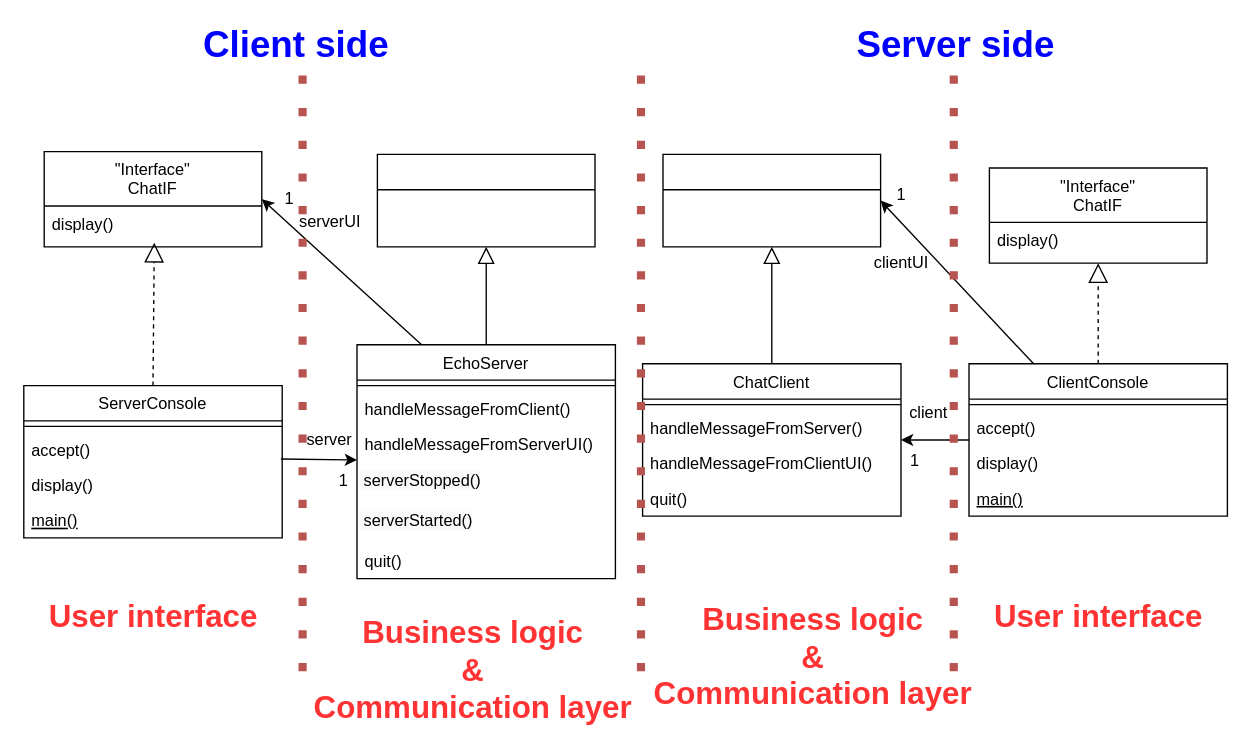
Some shapes in this 1251 by 751 pixel diagram are drawn without their labels. The shapes that lost their labels are listed below. From the top down, each one's centre as x and y in pixels, then its label:
pixel 485 200: AbstractServer
pixel 771 200: AbstractClient
